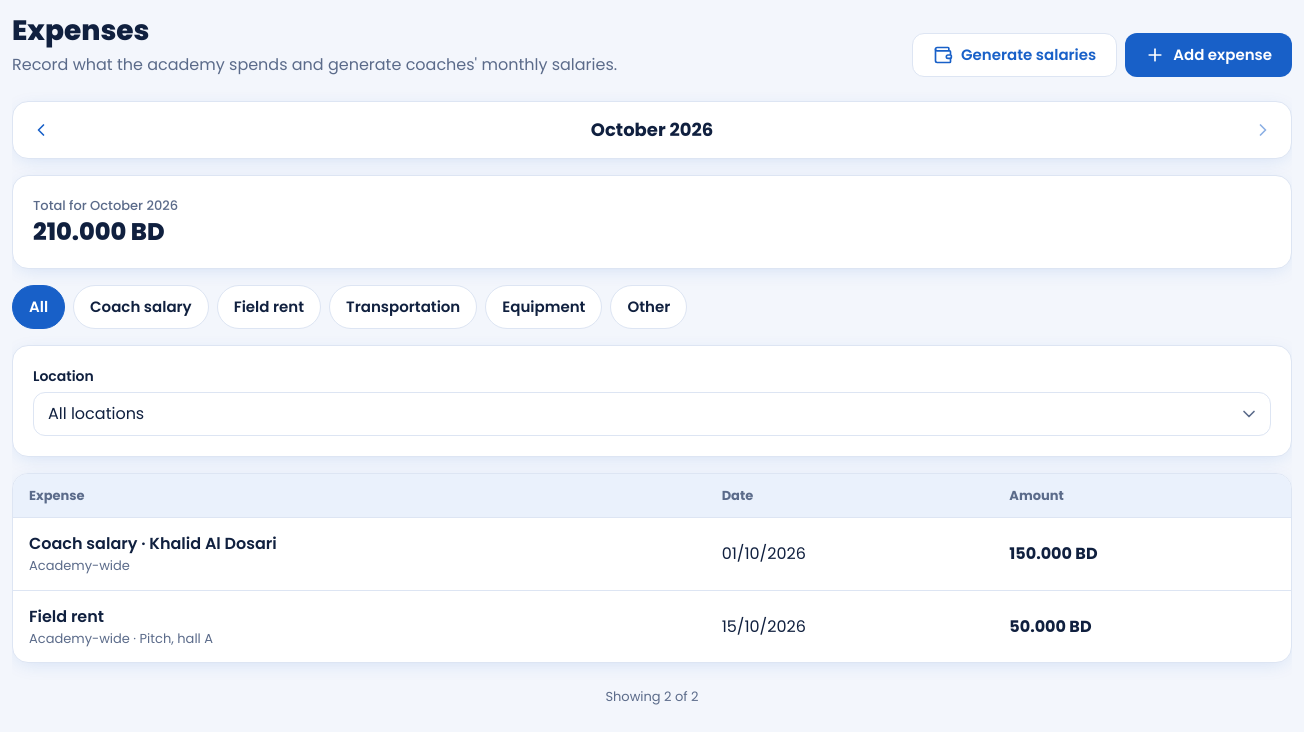
Scenario: ExpensesPage › moves between months, and cannot go past the current one
Expected: the button named "Next month" is disabled, 1241,108 -> 1285,152
Step 1. Click the button named "Previous month" → (41, 130), box 19,108 -> 63,152
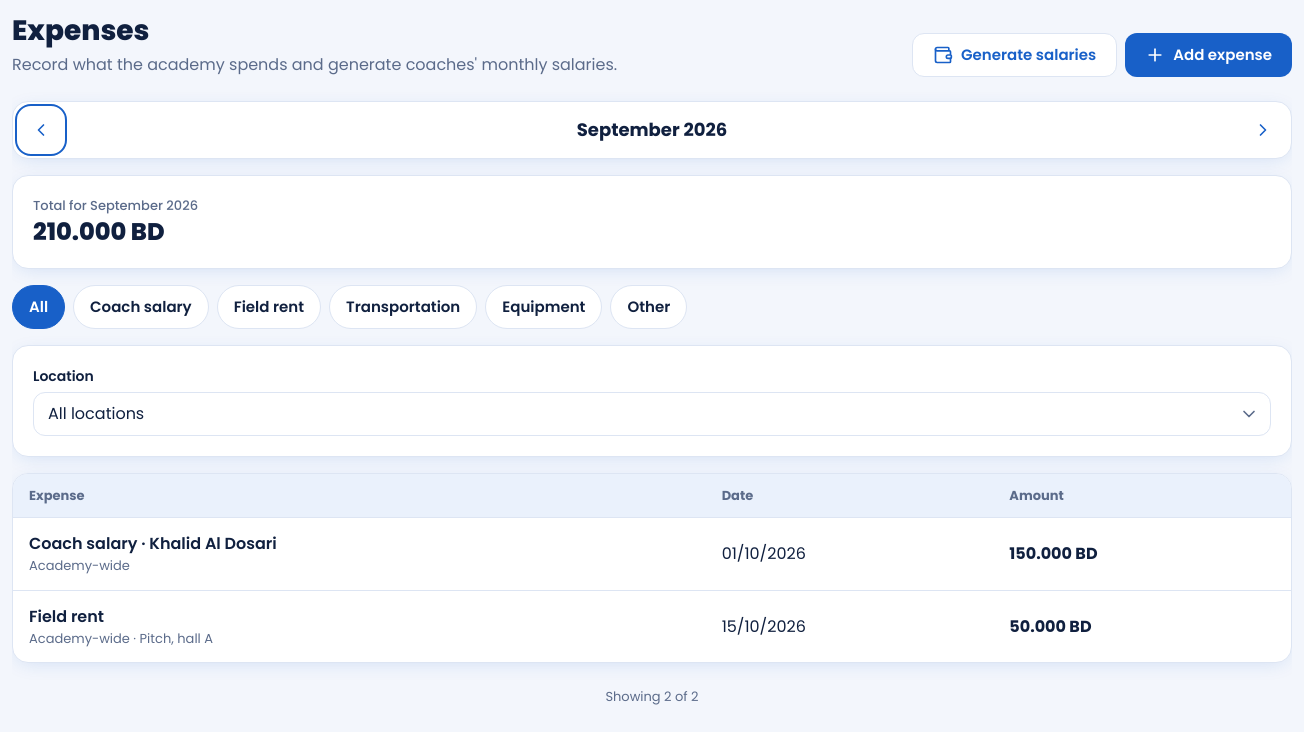
Expected: the button named "Next month" is enabled, 1241,108 -> 1285,152
Expected: the text "September 2026" is shown, 577,117 -> 727,142
